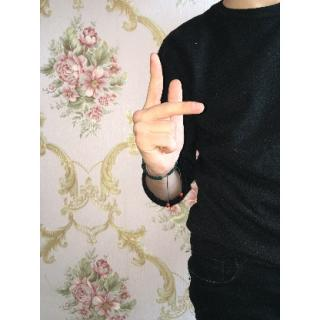DHAA: (126, 50, 210, 189)
